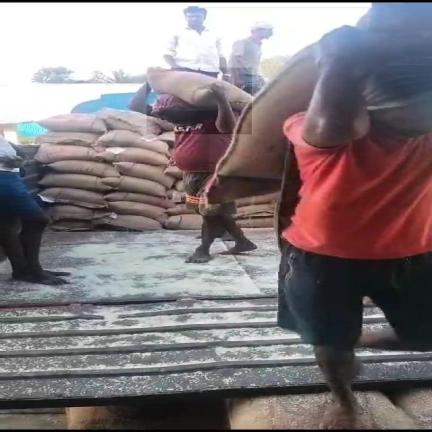Zone-Counting: (205, 3, 431, 431), (130, 68, 255, 261)
